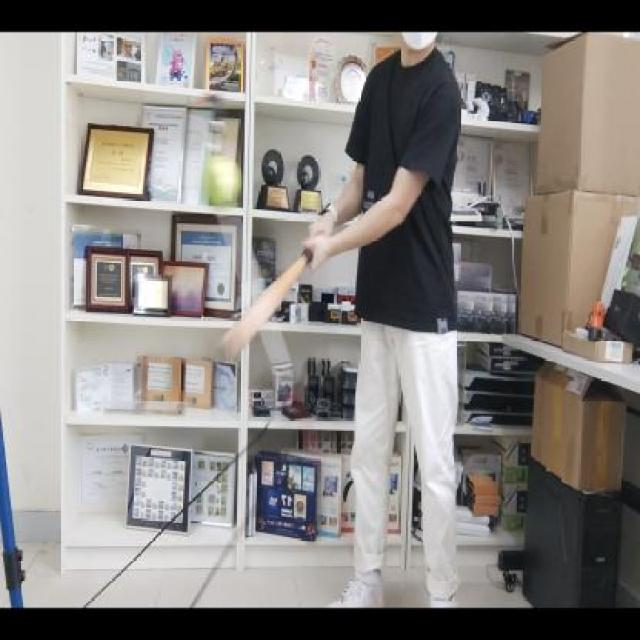baseball: (198, 150, 248, 212)
